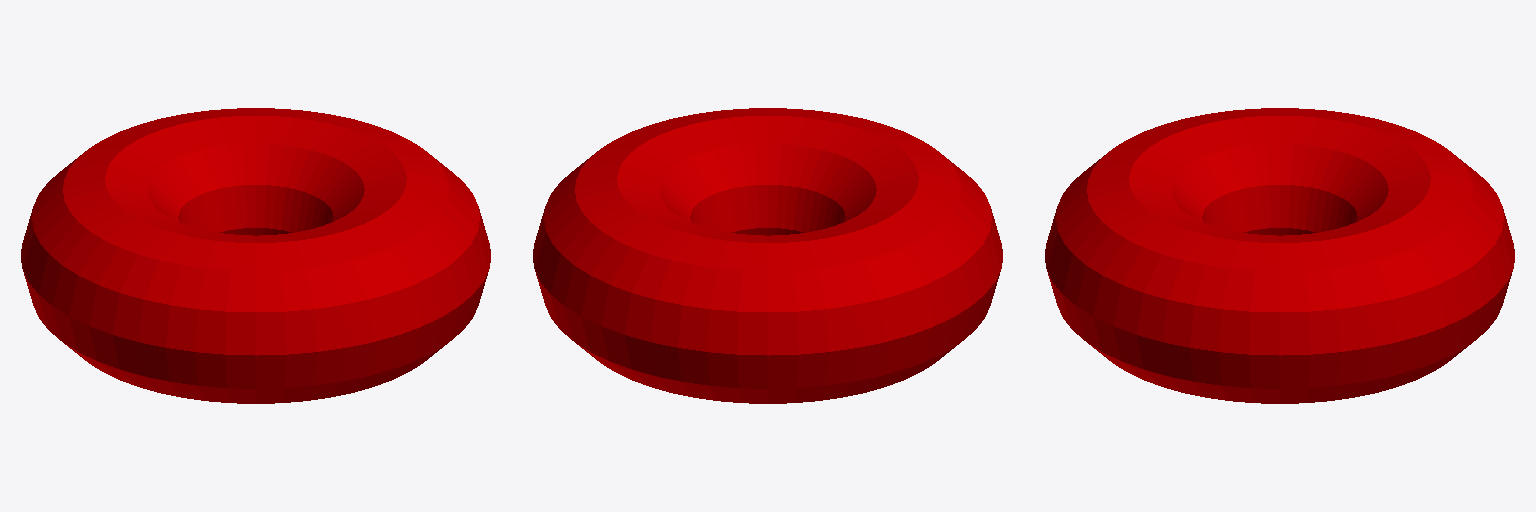
File: color_torus.obj
3 renders of one model, left to right at view 1: azimuth 30°, elevation 25°; view 2: azimuth 150°, elevation 25°; view 3: azimuth 270°, elevation 25°, orthographic.
Visible parts, largest first — view 1: Torus.002; view 2: Torus.002; view 3: Torus.002.
Part boxes in pixels (bbox=[...]): Torus.002: bbox=[21, 108, 490, 403]; Torus.002: bbox=[533, 108, 1002, 403]; Torus.002: bbox=[1045, 108, 1514, 403].
Size of the model in its own units: 3.12 by 1.12 by 3.12.